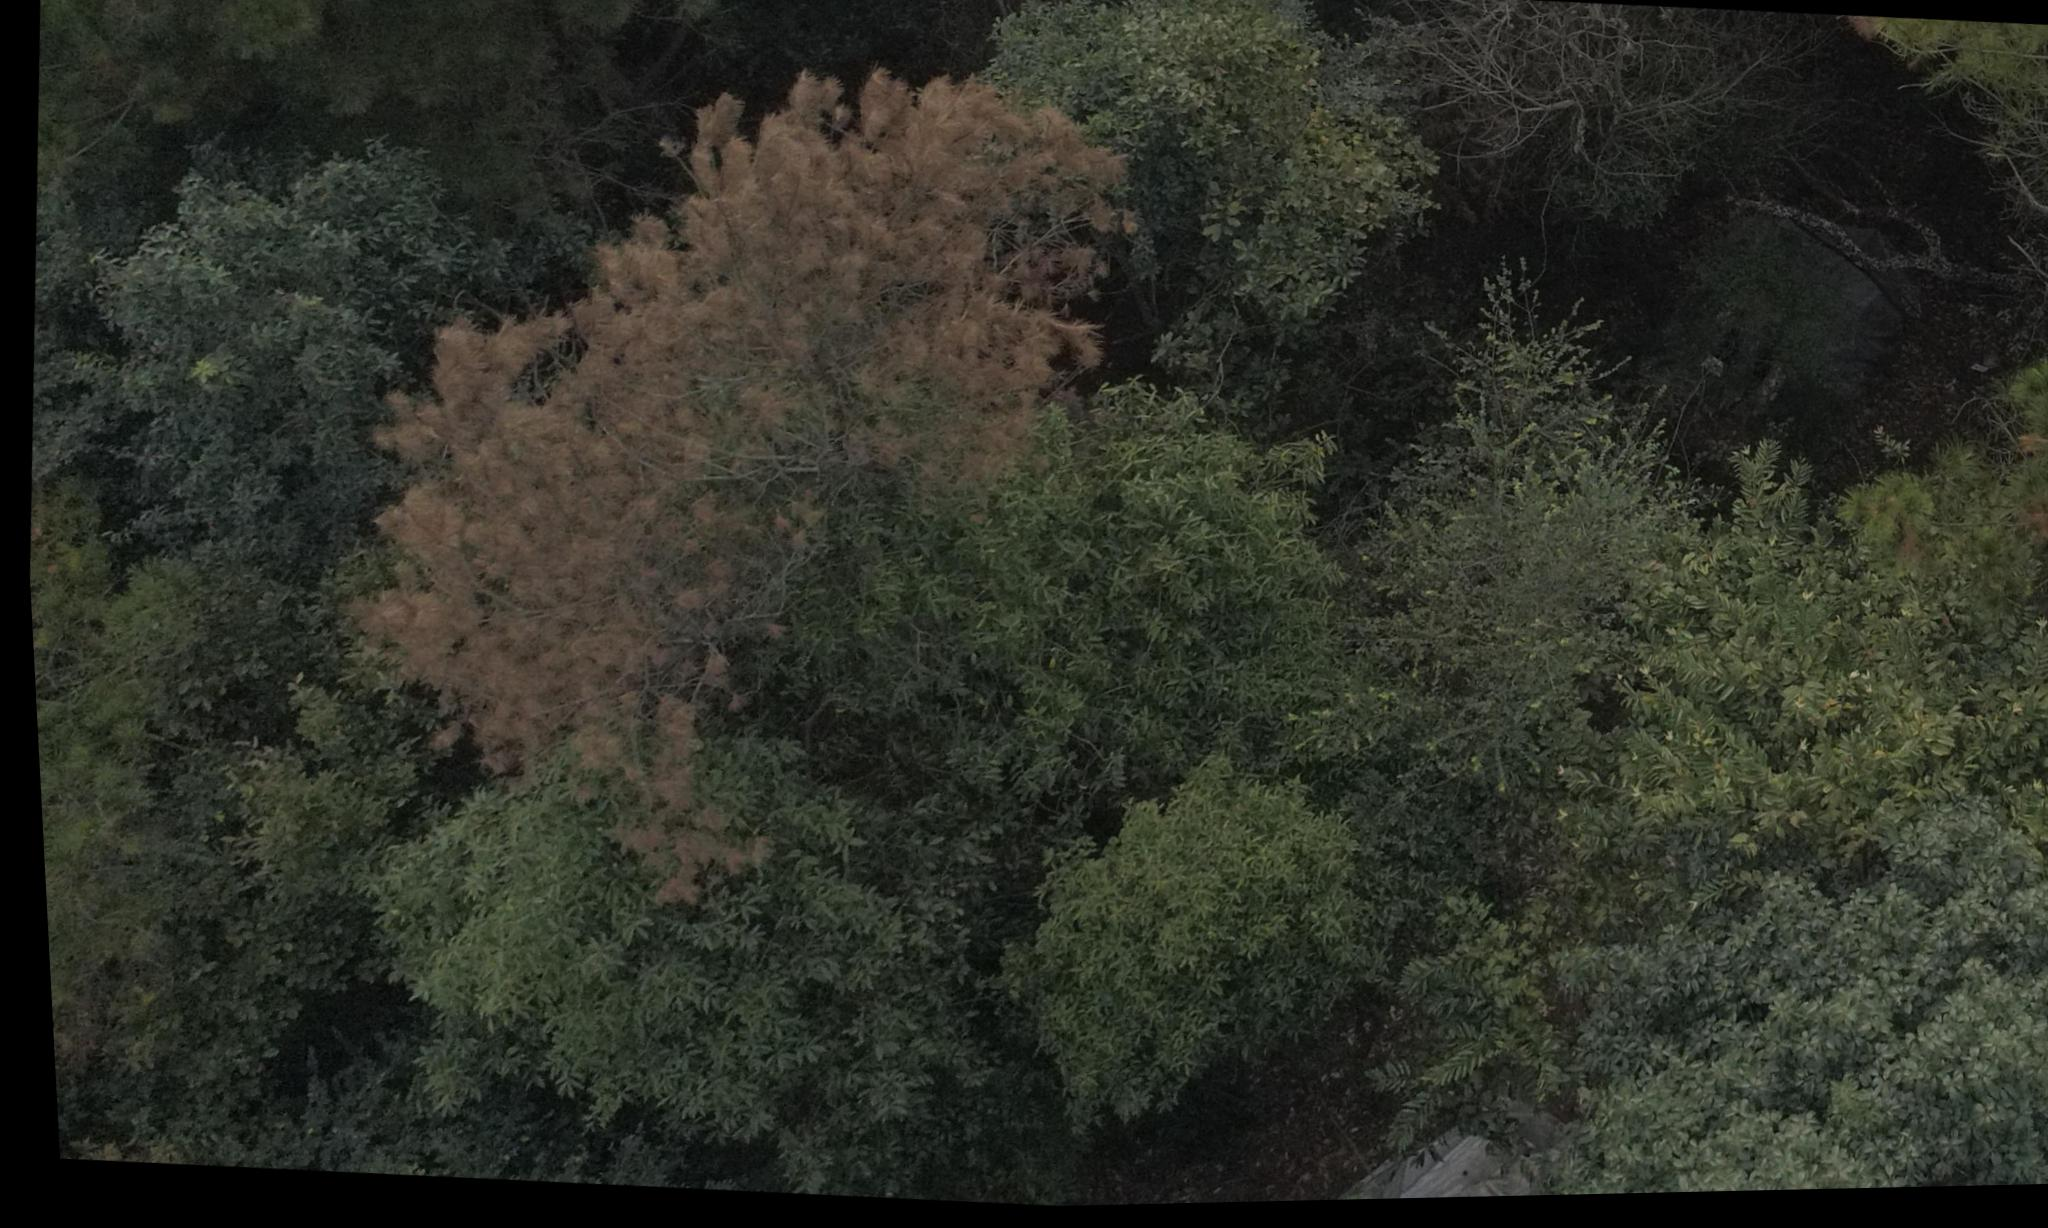dead: (1294, 0, 1782, 257)
heavy: (276, 4, 1206, 914)
